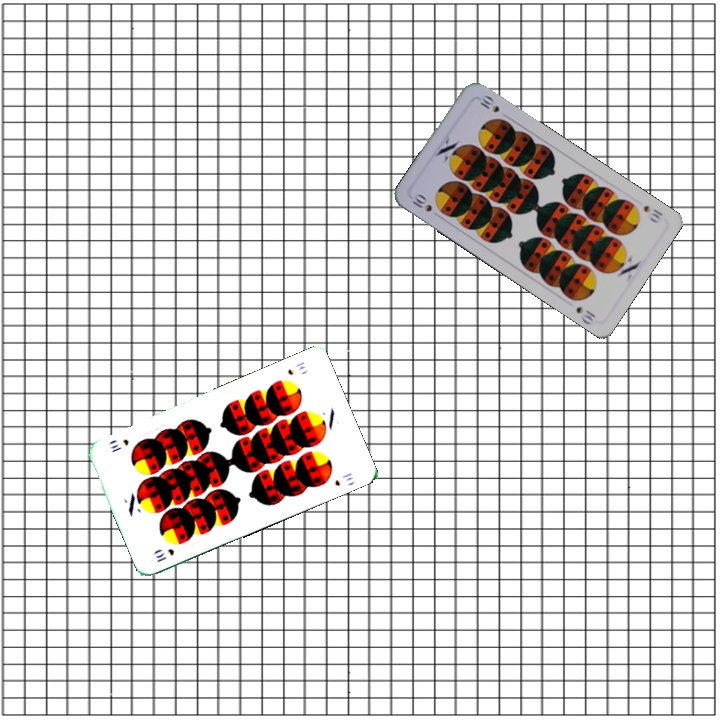S10: (407, 189, 435, 215), (639, 201, 665, 226), (151, 545, 177, 565), (284, 358, 308, 378)
